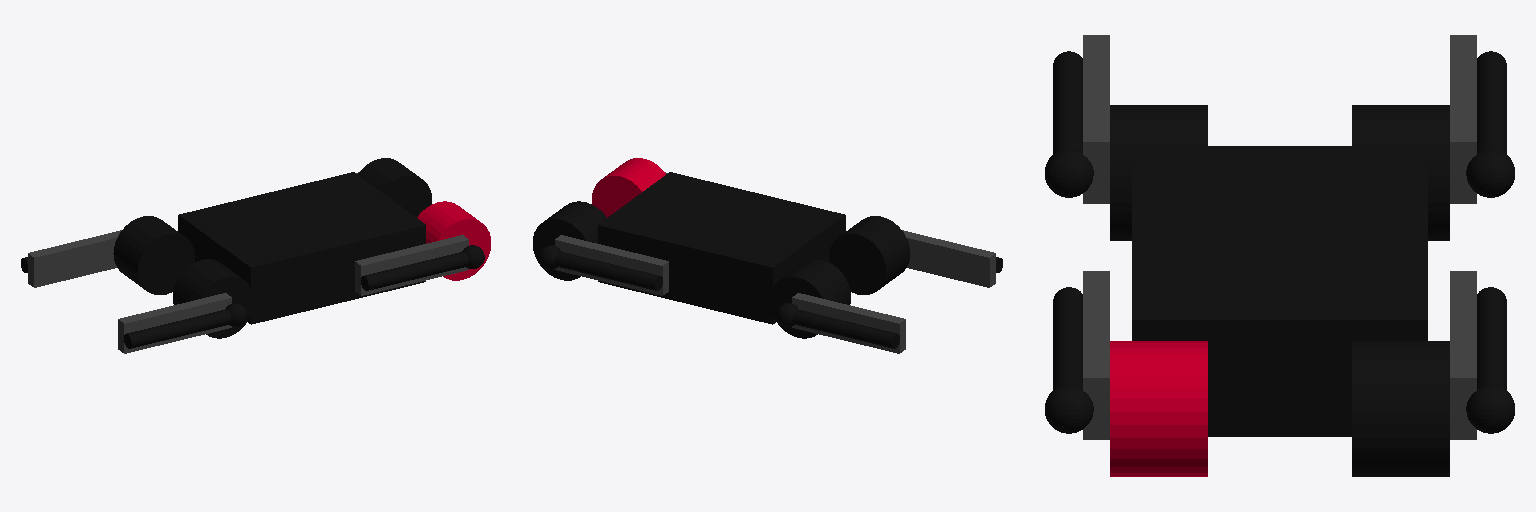
URDF robot description (ngr):
<?xml version="1.0" ?>
<!-- =================================================================================== -->
<!-- |    This document was autogenerated by xacro from spirit40.urdf.xacro            | -->
<!-- |    EDITING THIS FILE BY HAND IS NOT RECOMMENDED                                 | -->
<!-- =================================================================================== -->
<!-- 
MIT License (modified)

Copyright (c) 2020 Ghost Robotics
Authors:
[author] <[email redacted]>
[author] <[email redacted]>

Permission is hereby granted, free of charge, to any person obtaining a copy
of this **file** (the "Software"), to deal
in the Software without restriction, including without limitation the rights
to use, copy, modify, merge, publish, distribute, sublicense, and/or sell
copies of the Software, and to permit persons to whom the Software is
furnished to do so, subject to the following conditions:

The above copyright notice and this permission notice shall be included in all
copies or substantial portions of the Software.

THE SOFTWARE IS PROVIDED "AS IS", WITHOUT WARRANTY OF ANY KIND, EXPRESS OR
IMPLIED, INCLUDING BUT NOT LIMITED TO THE WARRANTIES OF MERCHANTABILITY,
FITNESS FOR A PARTICULAR PURPOSE AND NONINFRINGEMENT. IN NO EVENT SHALL THE
AUTHORS OR COPYRIGHT [author] ANY CLAIM, DAMAGES OR OTHER
LIABILITY, WHETHER IN AN ACTION OF CONTRACT, TORT OR OTHERWISE, ARISING FROM,
OUT OF OR IN CONNECTION WITH THE SOFTWARE OR THE USE OR OTHER DEALINGS IN THE
SOFTWARE. 
-->
<robot name="ngr" xmlns:xacro="http://www.ros.org/wiki/xacro">
  <!-- Define parameters -->
  <!-- bodyLength + hipdx should be equal to front to back hip distance -->
  <!-- dy +  dPodAxisToEdge + upperLegWidth should be equal to the center to toe distance along y axis-->
  <!-- guess -->
  <!-- guess -->
  <!-- guess -->
  <!-- guess -->
  <!-- guess -->
  <!-- guess -->
  <!--visual only-->
  <!--center of pod cylinder to the ab axis-->
  <!-- Define materials -->
  <material name="darkgray">
    <color rgba="0.1 0.1 0.1 1.0"/>
  </material>
  <material name="silver">
    <color rgba="0.3 0.3 0.3 1.0"/>
  </material>
  <material name="red">
    <color rgba="0.8 0.0 0.2 1.0"/>
  </material>
  <!-- Body -->
  <link name="body">
    <visual>
      <origin rpy="0 0 0" xyz="0 0 0"/>
      <geometry>
        <box size="0.335 0.24 0.104"/>
      </geometry>
      <material name="darkgray"/>
    </visual>
    <inertial>
      <mass value="5.75"/>
      <!-- Uniform box -->
      <!-- <inertia ixx="1/12*${bodyMass}*(${bodyWidth}*${bodyWidth} + ${bodyHeight}*${bodyHeight})"  ixy="0"  ixz="0" iyy="1/12*${bodyMass}*(${bodyLength}*${bodyLength} + ${bodyHeight}*${bodyHeight})" iyz="0" izz="1/12*${bodyMass}*(${bodyLength}*${bodyLength} + ${bodyWidth}*${bodyWidth})"/> -->
      <inertia ixx="0.05" ixy="0" ixz="0" iyy="0.1" iyz="0" izz="0.1"/>
    </inertial>
    <!-- Just copy geometry for collision -->
    <collision>
      <origin rpy="0 0 0" xyz="0 0 0"/>
      <geometry>
        <box size="0.335 0.24 0.104"/>
      </geometry>
    </collision>
  </link>
  <!-- Define our leg macro -->
  <!-- Our four legs -->
  <!-- Hip motor -->
  <link name="hip0">
    <visual>
      <origin rpy="1.5707963268 0 0" xyz="0.0 0.028 0"/>
      <geometry>
        <cylinder length="0.08" radius="0.055"/>
      </geometry>
      <material name="darkgray"/>
    </visual>
    <collision>
      <origin rpy="1.5707963268 0 0" xyz="0 0.028 0"/>
      <geometry>
        <cylinder length="0.08" radius="0.055"/>
      </geometry>
    </collision>
    <inertial>
      <mass value="0.575"/>
      <!-- <inertia ixx="1/12*${podMass}*${podLength}*${podLength} + 1/4*${podMass}*${podRadius}*${podRadius}"  ixy="0"  ixz="0" iyy="1/12*${podMass}*${podLength}*${podLength} + 1/4*${podMass}*${podRadius}*${podRadius}" iyz="0" izz="1/2*${podMass}*${podRadius}*$
				{podRadius}" /> -->
      <inertia ixx="0.00066963541" ixy="0" ixz="0" iyy="0.00066963541" iyz="0" izz="0.0008696875"/>
    </inertial>
  </link>
  <!-- Abduction joint. Joint names are: 8 9 10 11 -->
  <joint name="8" type="revolute">
    <parent link="body"/>
    <child link="hip0"/>
    <axis xyz="1 0 0"/>
    <origin xyz="0.2263 0.07 0"/>
    <limit effort="40" lower="-0.707" upper="0.707" velocity="30"/>
    <dynamics damping="0.0" friction="0.0"/>
  </joint>
  <!-- Upper leg -->
  <link name="upper0">
    <visual>
      <origin rpy="0 0 0" xyz="-0.103 -0.022 0"/>
      <geometry>
        <box size="0.206 0.022 0.055"/>
      </geometry>
      <material name="silver"/>
    </visual>
    <collision>
      <origin rpy="0 0 0" xyz="-0.103 -0.022 0"/>
      <geometry>
        <box size="0.206 0.022 0.055"/>
      </geometry>
    </collision>
    <inertial>
      <mass value="0.775"/>
      <inertia ixx="5e-05" ixy="0" ixz="0" iyy="0.001" iyz="0" izz="0.001"/>
    </inertial>
  </link>
  <!-- Hip joint. (Motor to upper leg). Joint names are: 0 2 4 6 -->
  <joint name="0" type="revolute">
    <parent link="hip0"/>
    <child link="upper0"/>
    <axis xyz="0 -1 0"/>
    <origin xyz="0.0 0.10098 0"/>
    <!--  rpy="0 -0.3 0" -->
    <limit effort="40" lower="-6.28318530718" upper="6.28318530718" velocity="30"/>
    <dynamics damping="0.0" friction="0.0"/>
  </joint>
  <!-- Lower leg -->
  <link name="lower0">
    <visual>
      <origin rpy="0 1.5707963268 0" xyz="0.103 0 0"/>
      <geometry>
        <cylinder length="0.206" radius="0.013"/>
      </geometry>
      <material name="darkgray"/>
    </visual>
    <collision>
      <origin rpy="0 1.5707963268 0" xyz="0.103 0 0"/>
      <geometry>
        <cylinder length="0.206" radius="0.013"/>
      </geometry>
    </collision>
    <inertial>
      <mass value="0.075"/>
      <inertia ixx="5e-06" ixy="0" ixz="0" iyy="0.0001" iyz="0" izz="0.0001"/>
    </inertial>
  </link>
  <!-- Knee joint. Joint names are: 1 3 5 7 -->
  <joint name="1" type="revolute">
    <parent link="upper0"/>
    <child link="lower0"/>
    <axis xyz="0 1 0"/>
    <origin xyz="-0.206 0 0"/>
    <!--rpy="0 0.5 0"-->
    <limit effort="40" lower="0" upper="3.14159265359" velocity="30"/>
    <dynamics damping="0.0" friction="0.0"/>
  </joint>
  <!-- Toe -->
  <link name="toe0">
    <contact>
      <friction_anchor/>
      <stiffness value="30000.0"/>
      <damping value="1000.0"/>
      <spinning_friction value="0.3"/>
      <lateral_friction value="3.0"/>
    </contact>
    <visual>
      <origin rpy="0 0 0" xyz="0 0 0"/>
      <geometry>
        <sphere radius="0.02"/>
      </geometry>
      <material name="darkgray"/>
    </visual>
    <collision>
      <origin rpy="0 0 0" xyz="0 0 0"/>
      <geometry>
        <sphere radius="0.02"/>
      </geometry>
    </collision>
    <inertial>
      <mass value="0.015"/>
      <inertia ixx="0.000025" ixy="0" ixz="0" iyy="0.000025" iyz="0" izz="0.000025"/>
      <!-- <inertia ixx="2/5*${toeMass}*${toeRadius}*${toeRadius}"  ixy="0"  ixz="0" iyy="2/5*${toeMass}*${toeRadius}*${toeRadius}" iyz="0" izz="2/5*${toeMass}*${toeRadius}*${toeRadius}" /> -->
    </inertial>
  </link>
  <joint name="jtoe0" type="fixed">
    <parent link="lower0"/>
    <child link="toe0"/>
    <origin xyz="0.206 0 -0.0"/>
    <dynamics damping="0.0" friction="0.0"/>
  </joint>
  <!-- Hip motor -->
  <link name="hip1">
    <visual>
      <origin rpy="1.5707963268 0 0" xyz="-0.0 0.028 0"/>
      <geometry>
        <cylinder length="0.08" radius="0.055"/>
      </geometry>
      <material name="darkgray"/>
    </visual>
    <collision>
      <origin rpy="1.5707963268 0 0" xyz="0 0.028 0"/>
      <geometry>
        <cylinder length="0.08" radius="0.055"/>
      </geometry>
    </collision>
    <inertial>
      <mass value="0.575"/>
      <!-- <inertia ixx="1/12*${podMass}*${podLength}*${podLength} + 1/4*${podMass}*${podRadius}*${podRadius}"  ixy="0"  ixz="0" iyy="1/12*${podMass}*${podLength}*${podLength} + 1/4*${podMass}*${podRadius}*${podRadius}" iyz="0" izz="1/2*${podMass}*${podRadius}*$
				{podRadius}" /> -->
      <inertia ixx="0.00066963541" ixy="0" ixz="0" iyy="0.00066963541" iyz="0" izz="0.0008696875"/>
    </inertial>
  </link>
  <!-- Abduction joint. Joint names are: 8 9 10 11 -->
  <joint name="9" type="revolute">
    <parent link="body"/>
    <child link="hip1"/>
    <axis xyz="1 0 0"/>
    <origin xyz="-0.2263 0.07 0"/>
    <limit effort="40" lower="-0.707" upper="0.707" velocity="30"/>
    <dynamics damping="0.0" friction="0.0"/>
  </joint>
  <!-- Upper leg -->
  <link name="upper1">
    <visual>
      <origin rpy="0 0 0" xyz="-0.103 -0.022 0"/>
      <geometry>
        <box size="0.206 0.022 0.055"/>
      </geometry>
      <material name="silver"/>
    </visual>
    <collision>
      <origin rpy="0 0 0" xyz="-0.103 -0.022 0"/>
      <geometry>
        <box size="0.206 0.022 0.055"/>
      </geometry>
    </collision>
    <inertial>
      <mass value="0.775"/>
      <inertia ixx="5e-05" ixy="0" ixz="0" iyy="0.001" iyz="0" izz="0.001"/>
    </inertial>
  </link>
  <!-- Hip joint. (Motor to upper leg). Joint names are: 0 2 4 6 -->
  <joint name="2" type="revolute">
    <parent link="hip1"/>
    <child link="upper1"/>
    <axis xyz="0 -1 0"/>
    <origin xyz="-0.0 0.10098 0"/>
    <!--  rpy="0 -0.3 0" -->
    <limit effort="40" lower="-6.28318530718" upper="6.28318530718" velocity="30"/>
    <dynamics damping="0.0" friction="0.0"/>
  </joint>
  <!-- Lower leg -->
  <link name="lower1">
    <visual>
      <origin rpy="0 1.5707963268 0" xyz="0.103 0 0"/>
      <geometry>
        <cylinder length="0.206" radius="0.013"/>
      </geometry>
      <material name="darkgray"/>
    </visual>
    <collision>
      <origin rpy="0 1.5707963268 0" xyz="0.103 0 0"/>
      <geometry>
        <cylinder length="0.206" radius="0.013"/>
      </geometry>
    </collision>
    <inertial>
      <mass value="0.075"/>
      <inertia ixx="5e-06" ixy="0" ixz="0" iyy="0.0001" iyz="0" izz="0.0001"/>
    </inertial>
  </link>
  <!-- Knee joint. Joint names are: 1 3 5 7 -->
  <joint name="3" type="revolute">
    <parent link="upper1"/>
    <child link="lower1"/>
    <axis xyz="0 1 0"/>
    <origin xyz="-0.206 0 0"/>
    <!--rpy="0 0.5 0"-->
    <limit effort="40" lower="0" upper="3.14159265359" velocity="30"/>
    <dynamics damping="0.0" friction="0.0"/>
  </joint>
  <!-- Toe -->
  <link name="toe1">
    <contact>
      <friction_anchor/>
      <stiffness value="30000.0"/>
      <damping value="1000.0"/>
      <spinning_friction value="0.3"/>
      <lateral_friction value="3.0"/>
    </contact>
    <visual>
      <origin rpy="0 0 0" xyz="0 0 0"/>
      <geometry>
        <sphere radius="0.02"/>
      </geometry>
      <material name="darkgray"/>
    </visual>
    <collision>
      <origin rpy="0 0 0" xyz="0 0 0"/>
      <geometry>
        <sphere radius="0.02"/>
      </geometry>
    </collision>
    <inertial>
      <mass value="0.015"/>
      <inertia ixx="0.000025" ixy="0" ixz="0" iyy="0.000025" iyz="0" izz="0.000025"/>
      <!-- <inertia ixx="2/5*${toeMass}*${toeRadius}*${toeRadius}"  ixy="0"  ixz="0" iyy="2/5*${toeMass}*${toeRadius}*${toeRadius}" iyz="0" izz="2/5*${toeMass}*${toeRadius}*${toeRadius}" /> -->
    </inertial>
  </link>
  <joint name="jtoe1" type="fixed">
    <parent link="lower1"/>
    <child link="toe1"/>
    <origin xyz="0.206 0 -0.0"/>
    <dynamics damping="0.0" friction="0.0"/>
  </joint>
  <!-- Hip motor -->
  <link name="hip2">
    <visual>
      <origin rpy="1.5707963268 0 0" xyz="0.0 -0.028 0"/>
      <geometry>
        <cylinder length="0.08" radius="0.055"/>
      </geometry>
      <material name="red"/>
    </visual>
    <collision>
      <origin rpy="1.5707963268 0 0" xyz="0 -0.028 0"/>
      <geometry>
        <cylinder length="0.08" radius="0.055"/>
      </geometry>
    </collision>
    <inertial>
      <mass value="0.575"/>
      <!-- <inertia ixx="1/12*${podMass}*${podLength}*${podLength} + 1/4*${podMass}*${podRadius}*${podRadius}"  ixy="0"  ixz="0" iyy="1/12*${podMass}*${podLength}*${podLength} + 1/4*${podMass}*${podRadius}*${podRadius}" iyz="0" izz="1/2*${podMass}*${podRadius}*$
				{podRadius}" /> -->
      <inertia ixx="0.00066963541" ixy="0" ixz="0" iyy="0.00066963541" iyz="0" izz="0.0008696875"/>
    </inertial>
  </link>
  <!-- Abduction joint. Joint names are: 8 9 10 11 -->
  <joint name="10" type="revolute">
    <parent link="body"/>
    <child link="hip2"/>
    <axis xyz="1 0 0"/>
    <origin xyz="0.2263 -0.07 0"/>
    <limit effort="40" lower="-0.707" upper="0.707" velocity="30"/>
    <dynamics damping="0.0" friction="0.0"/>
  </joint>
  <!-- Upper leg -->
  <link name="upper2">
    <visual>
      <origin rpy="0 0 0" xyz="-0.103 0.022 0"/>
      <geometry>
        <box size="0.206 0.022 0.055"/>
      </geometry>
      <material name="silver"/>
    </visual>
    <collision>
      <origin rpy="0 0 0" xyz="-0.103 0.022 0"/>
      <geometry>
        <box size="0.206 0.022 0.055"/>
      </geometry>
    </collision>
    <inertial>
      <mass value="0.775"/>
      <inertia ixx="5e-05" ixy="0" ixz="0" iyy="0.001" iyz="0" izz="0.001"/>
    </inertial>
  </link>
  <!-- Hip joint. (Motor to upper leg). Joint names are: 0 2 4 6 -->
  <joint name="4" type="revolute">
    <parent link="hip2"/>
    <child link="upper2"/>
    <axis xyz="0 -1 0"/>
    <origin xyz="0.0 -0.10098 0"/>
    <!--  rpy="0 -0.3 0" -->
    <limit effort="40" lower="-6.28318530718" upper="6.28318530718" velocity="30"/>
    <dynamics damping="0.0" friction="0.0"/>
  </joint>
  <!-- Lower leg -->
  <link name="lower2">
    <visual>
      <origin rpy="0 1.5707963268 0" xyz="0.103 0 0"/>
      <geometry>
        <cylinder length="0.206" radius="0.013"/>
      </geometry>
      <material name="darkgray"/>
    </visual>
    <collision>
      <origin rpy="0 1.5707963268 0" xyz="0.103 0 0"/>
      <geometry>
        <cylinder length="0.206" radius="0.013"/>
      </geometry>
    </collision>
    <inertial>
      <mass value="0.075"/>
      <inertia ixx="5e-06" ixy="0" ixz="0" iyy="0.0001" iyz="0" izz="0.0001"/>
    </inertial>
  </link>
  <!-- Knee joint. Joint names are: 1 3 5 7 -->
  <joint name="5" type="revolute">
    <parent link="upper2"/>
    <child link="lower2"/>
    <axis xyz="0 1 0"/>
    <origin xyz="-0.206 0 0"/>
    <!--rpy="0 0.5 0"-->
    <limit effort="40" lower="0" upper="3.14159265359" velocity="30"/>
    <dynamics damping="0.0" friction="0.0"/>
  </joint>
  <!-- Toe -->
  <link name="toe2">
    <contact>
      <friction_anchor/>
      <stiffness value="30000.0"/>
      <damping value="1000.0"/>
      <spinning_friction value="0.3"/>
      <lateral_friction value="3.0"/>
    </contact>
    <visual>
      <origin rpy="0 0 0" xyz="0 0 0"/>
      <geometry>
        <sphere radius="0.02"/>
      </geometry>
      <material name="darkgray"/>
    </visual>
    <collision>
      <origin rpy="0 0 0" xyz="0 0 0"/>
      <geometry>
        <sphere radius="0.02"/>
      </geometry>
    </collision>
    <inertial>
      <mass value="0.015"/>
      <inertia ixx="0.000025" ixy="0" ixz="0" iyy="0.000025" iyz="0" izz="0.000025"/>
      <!-- <inertia ixx="2/5*${toeMass}*${toeRadius}*${toeRadius}"  ixy="0"  ixz="0" iyy="2/5*${toeMass}*${toeRadius}*${toeRadius}" iyz="0" izz="2/5*${toeMass}*${toeRadius}*${toeRadius}" /> -->
    </inertial>
  </link>
  <joint name="jtoe2" type="fixed">
    <parent link="lower2"/>
    <child link="toe2"/>
    <origin xyz="0.206 0 -0.0"/>
    <dynamics damping="0.0" friction="0.0"/>
  </joint>
  <!-- Hip motor -->
  <link name="hip3">
    <visual>
      <origin rpy="1.5707963268 0 0" xyz="-0.0 -0.028 0"/>
      <geometry>
        <cylinder length="0.08" radius="0.055"/>
      </geometry>
      <material name="darkgray"/>
    </visual>
    <collision>
      <origin rpy="1.5707963268 0 0" xyz="0 -0.028 0"/>
      <geometry>
        <cylinder length="0.08" radius="0.055"/>
      </geometry>
    </collision>
    <inertial>
      <mass value="0.575"/>
      <!-- <inertia ixx="1/12*${podMass}*${podLength}*${podLength} + 1/4*${podMass}*${podRadius}*${podRadius}"  ixy="0"  ixz="0" iyy="1/12*${podMass}*${podLength}*${podLength} + 1/4*${podMass}*${podRadius}*${podRadius}" iyz="0" izz="1/2*${podMass}*${podRadius}*$
				{podRadius}" /> -->
      <inertia ixx="0.00066963541" ixy="0" ixz="0" iyy="0.00066963541" iyz="0" izz="0.0008696875"/>
    </inertial>
  </link>
  <!-- Abduction joint. Joint names are: 8 9 10 11 -->
  <joint name="11" type="revolute">
    <parent link="body"/>
    <child link="hip3"/>
    <axis xyz="1 0 0"/>
    <origin xyz="-0.2263 -0.07 0"/>
    <limit effort="40" lower="-0.707" upper="0.707" velocity="30"/>
    <dynamics damping="0.0" friction="0.0"/>
  </joint>
  <!-- Upper leg -->
  <link name="upper3">
    <visual>
      <origin rpy="0 0 0" xyz="-0.103 0.022 0"/>
      <geometry>
        <box size="0.206 0.022 0.055"/>
      </geometry>
      <material name="silver"/>
    </visual>
    <collision>
      <origin rpy="0 0 0" xyz="-0.103 0.022 0"/>
      <geometry>
        <box size="0.206 0.022 0.055"/>
      </geometry>
    </collision>
    <inertial>
      <mass value="0.775"/>
      <inertia ixx="5e-05" ixy="0" ixz="0" iyy="0.001" iyz="0" izz="0.001"/>
    </inertial>
  </link>
  <!-- Hip joint. (Motor to upper leg). Joint names are: 0 2 4 6 -->
  <joint name="6" type="revolute">
    <parent link="hip3"/>
    <child link="upper3"/>
    <axis xyz="0 -1 0"/>
    <origin xyz="-0.0 -0.10098 0"/>
    <!--  rpy="0 -0.3 0" -->
    <limit effort="40" lower="-6.28318530718" upper="6.28318530718" velocity="30"/>
    <dynamics damping="0.0" friction="0.0"/>
  </joint>
  <!-- Lower leg -->
  <link name="lower3">
    <visual>
      <origin rpy="0 1.5707963268 0" xyz="0.103 0 0"/>
      <geometry>
        <cylinder length="0.206" radius="0.013"/>
      </geometry>
      <material name="darkgray"/>
    </visual>
    <collision>
      <origin rpy="0 1.5707963268 0" xyz="0.103 0 0"/>
      <geometry>
        <cylinder length="0.206" radius="0.013"/>
      </geometry>
    </collision>
    <inertial>
      <mass value="0.075"/>
      <inertia ixx="5e-06" ixy="0" ixz="0" iyy="0.0001" iyz="0" izz="0.0001"/>
    </inertial>
  </link>
  <!-- Knee joint. Joint names are: 1 3 5 7 -->
  <joint name="7" type="revolute">
    <parent link="upper3"/>
    <child link="lower3"/>
    <axis xyz="0 1 0"/>
    <origin xyz="-0.206 0 0"/>
    <!--rpy="0 0.5 0"-->
    <limit effort="40" lower="0" upper="3.14159265359" velocity="30"/>
    <dynamics damping="0.0" friction="0.0"/>
  </joint>
  <!-- Toe -->
  <link name="toe3">
    <contact>
      <friction_anchor/>
      <stiffness value="30000.0"/>
      <damping value="1000.0"/>
      <spinning_friction value="0.3"/>
      <lateral_friction value="3.0"/>
    </contact>
    <visual>
      <origin rpy="0 0 0" xyz="0 0 0"/>
      <geometry>
        <sphere radius="0.02"/>
      </geometry>
      <material name="darkgray"/>
    </visual>
    <collision>
      <origin rpy="0 0 0" xyz="0 0 0"/>
      <geometry>
        <sphere radius="0.02"/>
      </geometry>
    </collision>
    <inertial>
      <mass value="0.015"/>
      <inertia ixx="0.000025" ixy="0" ixz="0" iyy="0.000025" iyz="0" izz="0.000025"/>
      <!-- <inertia ixx="2/5*${toeMass}*${toeRadius}*${toeRadius}"  ixy="0"  ixz="0" iyy="2/5*${toeMass}*${toeRadius}*${toeRadius}" iyz="0" izz="2/5*${toeMass}*${toeRadius}*${toeRadius}" /> -->
    </inertial>
  </link>
  <joint name="jtoe3" type="fixed">
    <parent link="lower3"/>
    <child link="toe3"/>
    <origin xyz="0.206 0 -0.0"/>
    <dynamics damping="0.0" friction="0.0"/>
  </joint>
</robot>

--- What the picture shows (computed from the rendered views, not written in the file) ---
The picture shows the robot from 3 angles, left to right: view 1: azimuth 30°, elevation 25°; view 2: azimuth 150°, elevation 25°; view 3: azimuth 270°, elevation 25°; orthographic projection.
Robot: ngr — 17 links, 16 joints (12 revolute, 4 fixed); root link body; default pose: every joint at zero.
Visible links, largest first — view 1: body, hip1, upper1, hip3, hip2, upper2, upper3, hip0, lower3, lower2; view 2: body, hip3, upper3, hip1, hip0, upper0, upper1, hip2, lower1, lower0; view 3: body, hip0, hip2, hip1, hip3, upper0, upper2, upper1, upper3, lower1, lower3, lower0 (+5 smaller).
Link boxes in pixels (x1,y1,x2,y2): body: (178,172,425,324); hip1: (113,216,194,294); upper1: (28,230,121,287); hip3: (173,259,253,338); hip2: (417,201,490,280); upper2: (355,235,468,295); upper3: (118,293,231,353); hip0: (358,158,431,217); lower3: (124,309,231,348); lower2: (361,252,468,290); body: (598,172,845,324); hip3: (829,216,910,294); upper3: (902,230,995,287); hip1: (770,259,850,338); hip0: (533,201,606,280); upper0: (555,235,668,295); upper1: (792,293,905,353); hip2: (592,158,665,217); lower1: (792,309,899,348); lower0: (555,252,662,290); body: (1132,146,1427,436); hip0: (1352,341,1449,476); hip2: (1110,341,1207,476); hip1: (1352,105,1449,240); hip3: (1110,105,1207,240); upper0: (1450,271,1476,439); upper2: (1083,271,1109,439); upper1: (1450,35,1476,203); upper3: (1083,35,1109,203); lower1: (1477,51,1506,153); lower3: (1053,51,1082,153); lower0: (1477,287,1506,389).
Size in the robot's own frame: 0.7136 by 0.382 by 0.11 metres.
Geometry: primitives only (box / cylinder / sphere), no mesh files.
